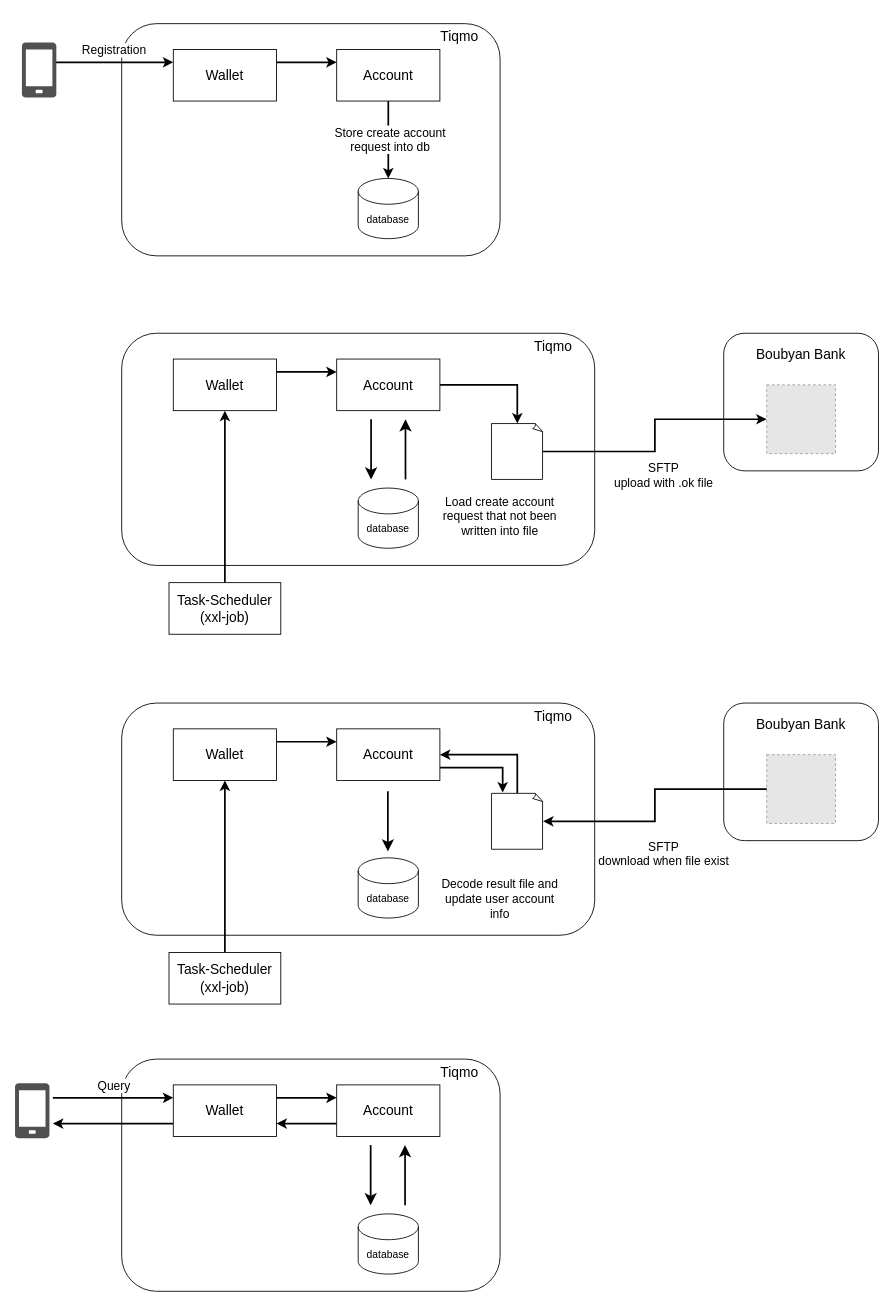
The diagram is 894 pixels wide and 1306 high, and some of its shapes have lost their labels. Grey dashed boxes stand in for pictures. The shapes that lost their labels are listed below. From the top down, each one's centre as x and y in pixels, then its label:
(x=517, y=451): VA File
(x=517, y=820): Result File
